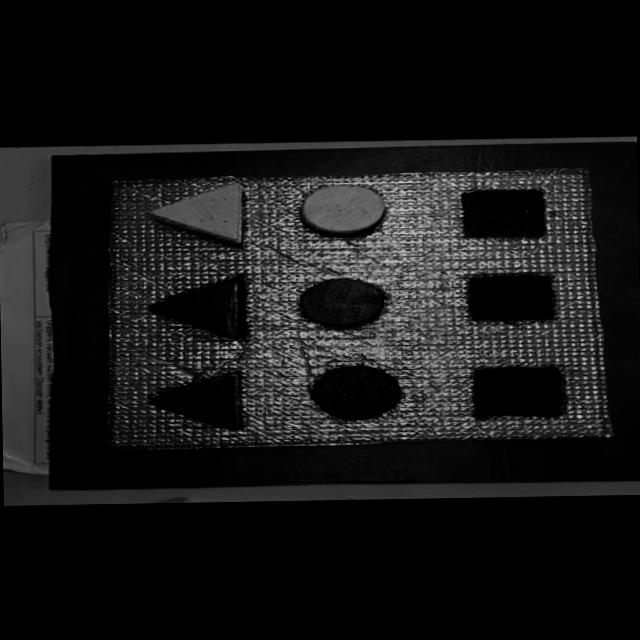bcircle: (311, 365, 404, 420)
btriangle: (146, 369, 244, 431)
mtcube: (467, 364, 568, 419), (463, 272, 558, 322), (458, 188, 548, 240)
rcircle: (298, 277, 386, 327)
rtriangle: (148, 276, 247, 340)
wb: (98, 165, 614, 448)
ycircle: (299, 182, 386, 235)
ytriangle: (146, 180, 247, 247)
